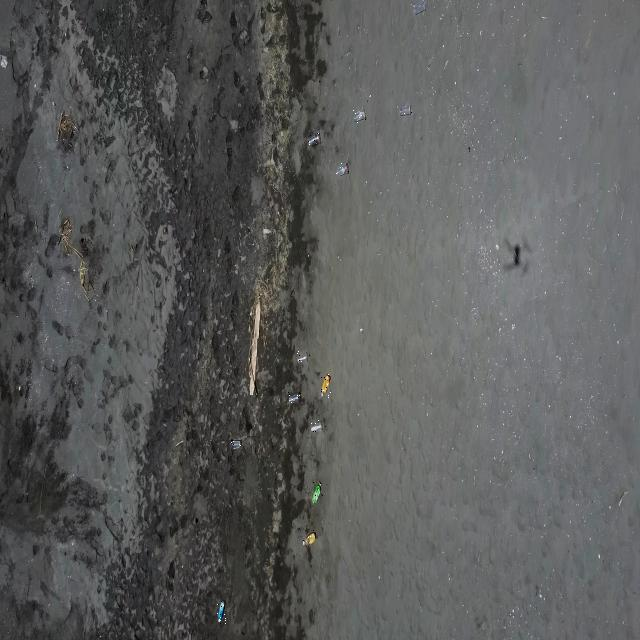plastic-bottle: (312, 482, 323, 504), (321, 374, 331, 398), (304, 530, 318, 547), (217, 600, 226, 624)
takeaway-cup: (308, 133, 322, 148), (353, 108, 366, 124), (414, 0, 426, 16), (336, 164, 349, 178), (297, 351, 310, 365), (310, 420, 324, 432), (230, 439, 242, 453), (287, 392, 301, 404), (400, 105, 412, 117)
